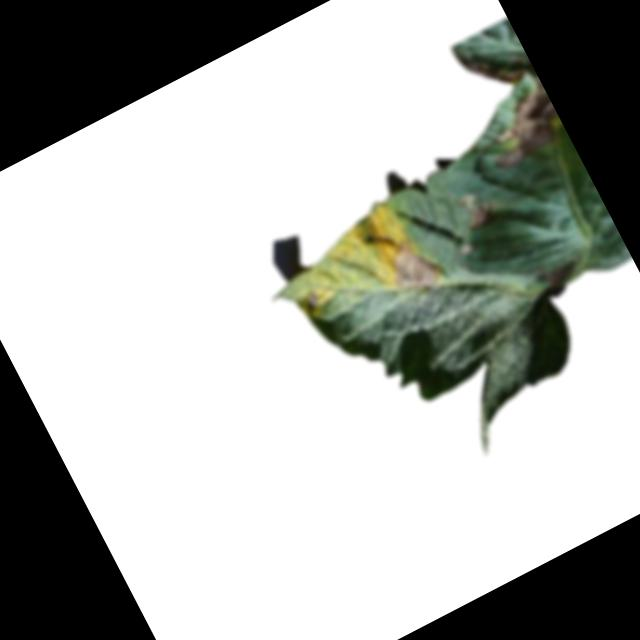Early_blight: (445, 32, 570, 175), (372, 224, 448, 306), (455, 183, 503, 237), (295, 282, 326, 314)
